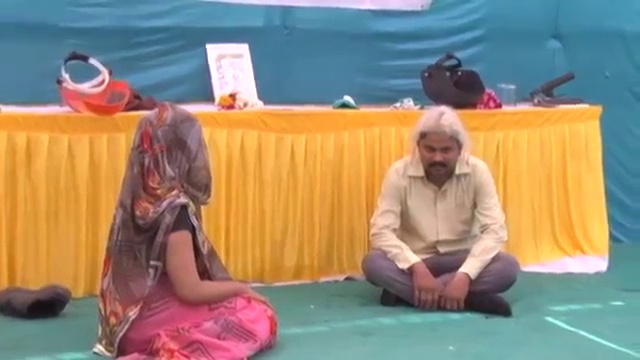helmet_off: (129, 107, 216, 206), (415, 110, 464, 186)
person: (93, 102, 280, 360), (362, 104, 521, 319)
